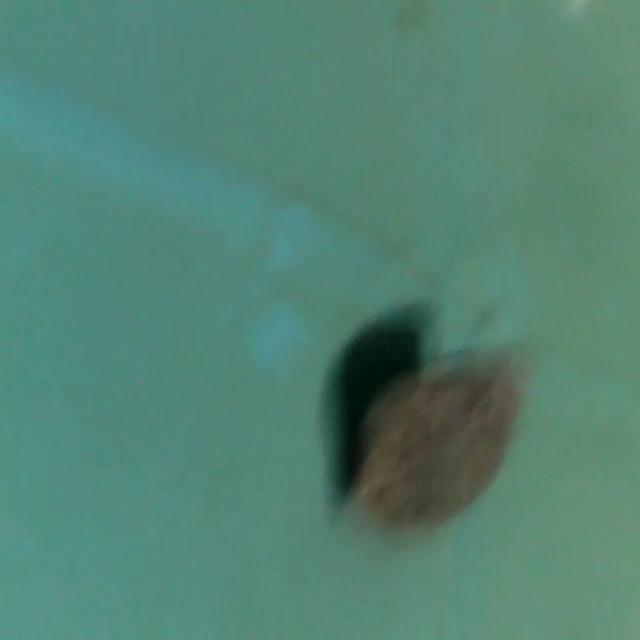rock: (348, 347, 523, 540)
